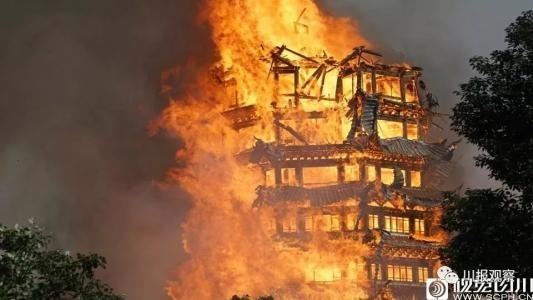fire: (161, 9, 448, 300)
